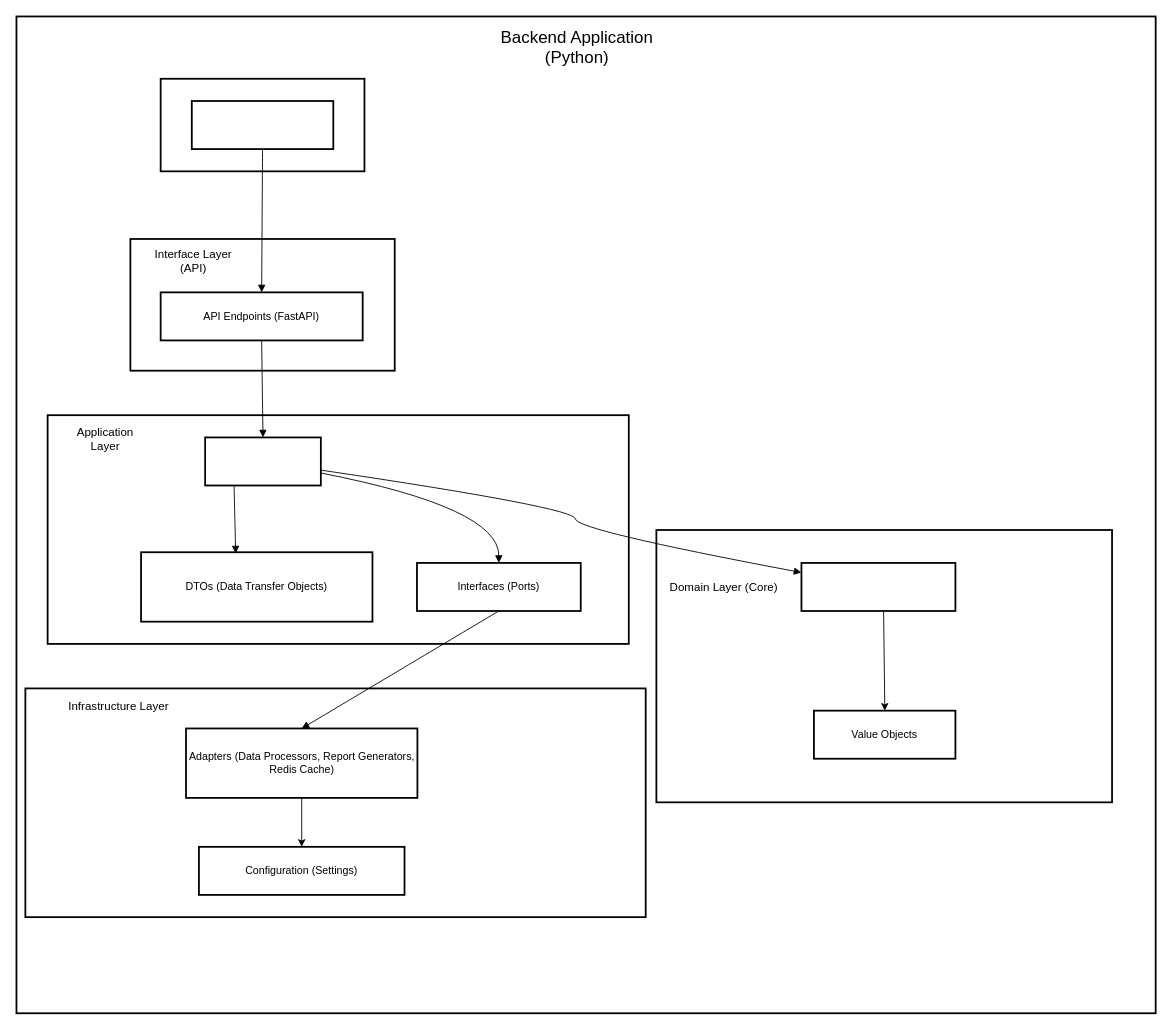
Some shapes in this 1171 by 1029 pixel diagram are drawn without their labels. Here are the shapes that lost their labels. From the top down, the centre of each, then its label:
At (x=262, y=125): "HTTP Request".
At (x=262, y=461): "Use Cases".
At (x=878, y=586): "Business Models".
